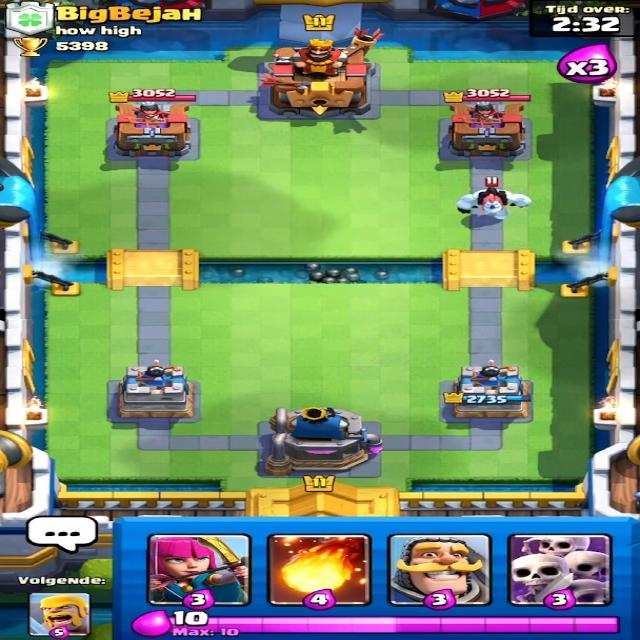Enemy_Ice_Golem_Troop: (450, 184, 542, 223)
Fireball_Card: (264, 530, 373, 605)
